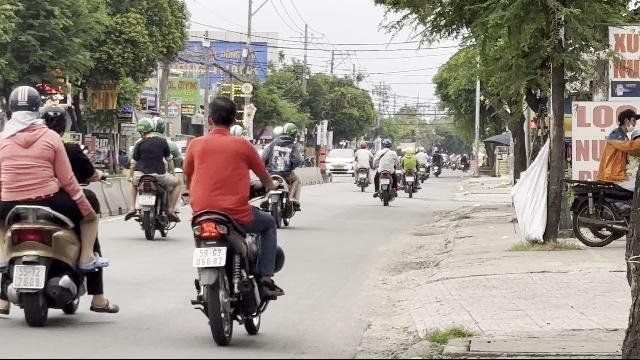helmet: (5, 85, 43, 121), (39, 102, 69, 136), (135, 118, 153, 137), (150, 116, 164, 134)
licenseplate: (193, 246, 225, 268), (14, 265, 44, 287), (138, 195, 156, 205)
motorcyclist: (0, 83, 116, 327), (179, 95, 289, 340), (125, 115, 182, 239)
nohelmet: (205, 96, 238, 132)
